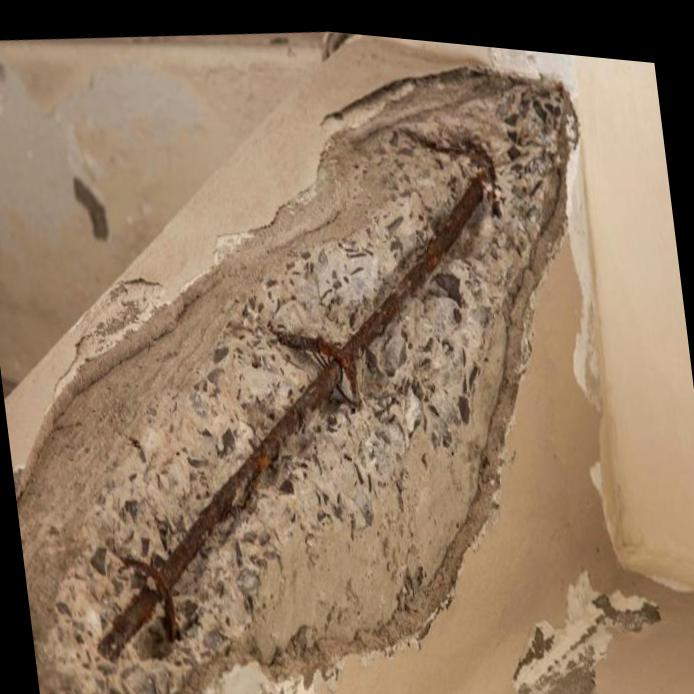damage: (12, 52, 579, 694)
